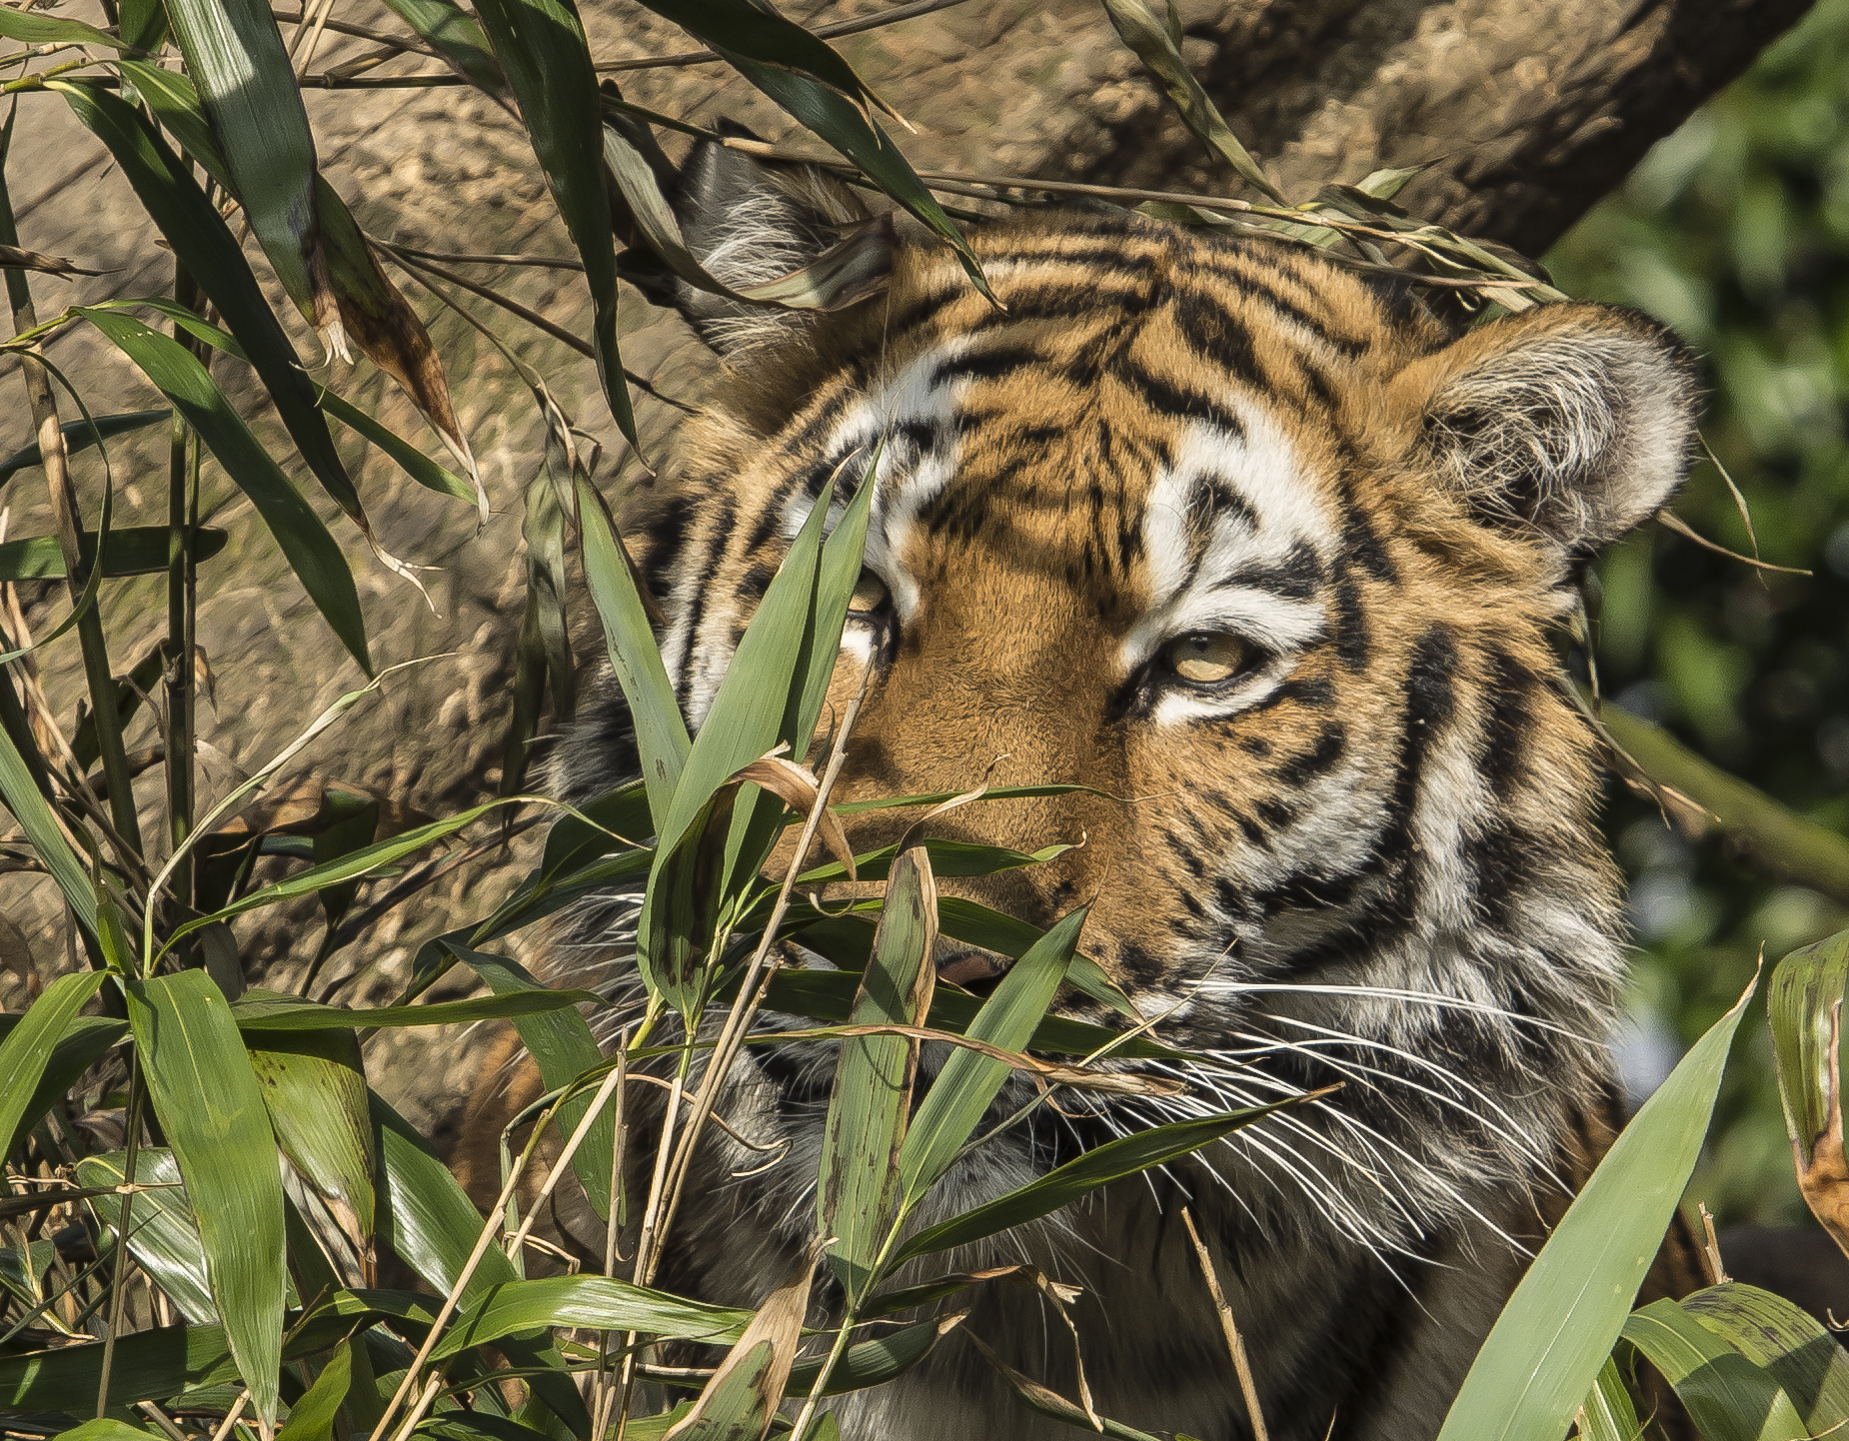tiger: (596, 159, 1738, 1298)
